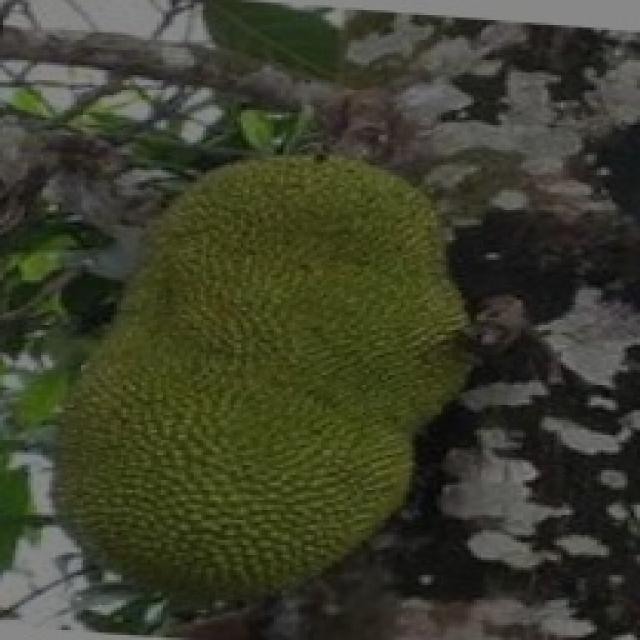Fruit: (92, 128, 505, 442)
